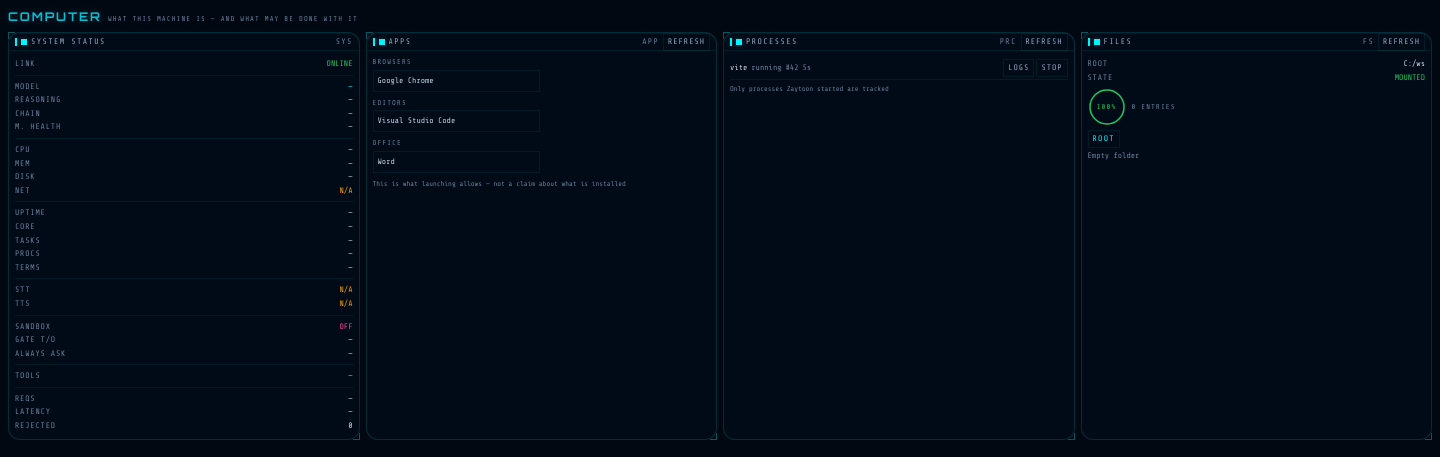
Test case: ComputerView › reports a refused stop as a refusal and keeps the list it did not change
Expected: the text "vite" is shown, [730,62,747,74]
What coordinates should you click on to do the following:
click the button "STOP"
I would click on:
 (1052, 68)
Its box is [1036,59,1068,77].
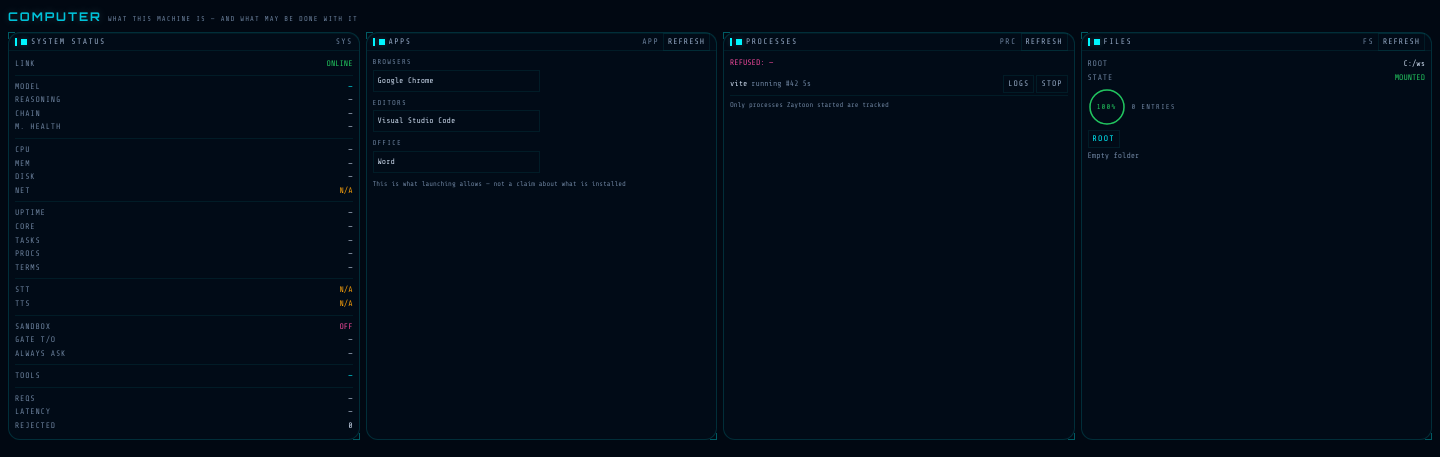
Expected: the text "vite" is shown, [730,78,747,90]
Expected: the text "REFUSED: —" is shown, [730,58,773,67]
